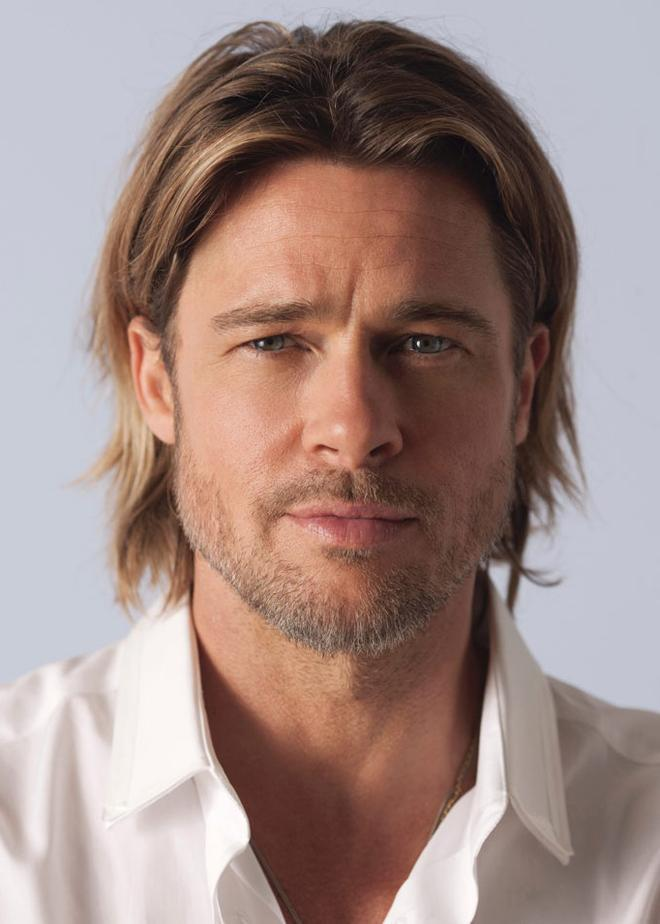Sober: (185, 190, 521, 626)
